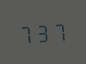seven: (18, 21, 33, 44), (51, 19, 66, 42)
three: (35, 20, 50, 43)
